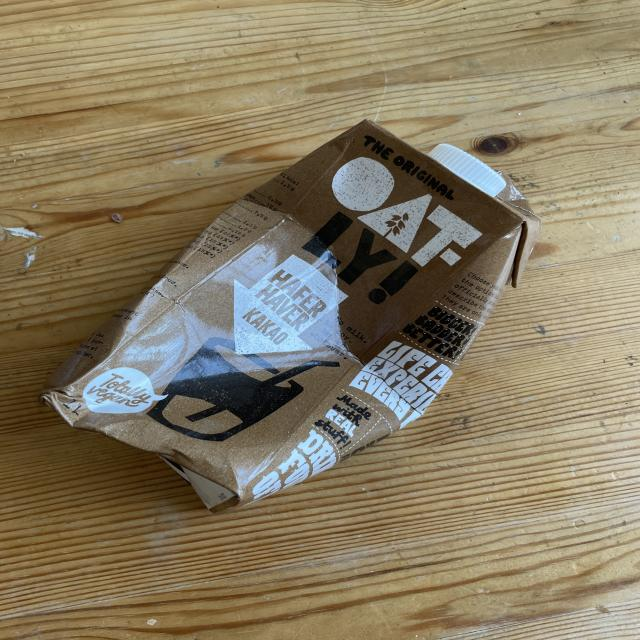non_white_jug: (49, 114, 532, 510)
